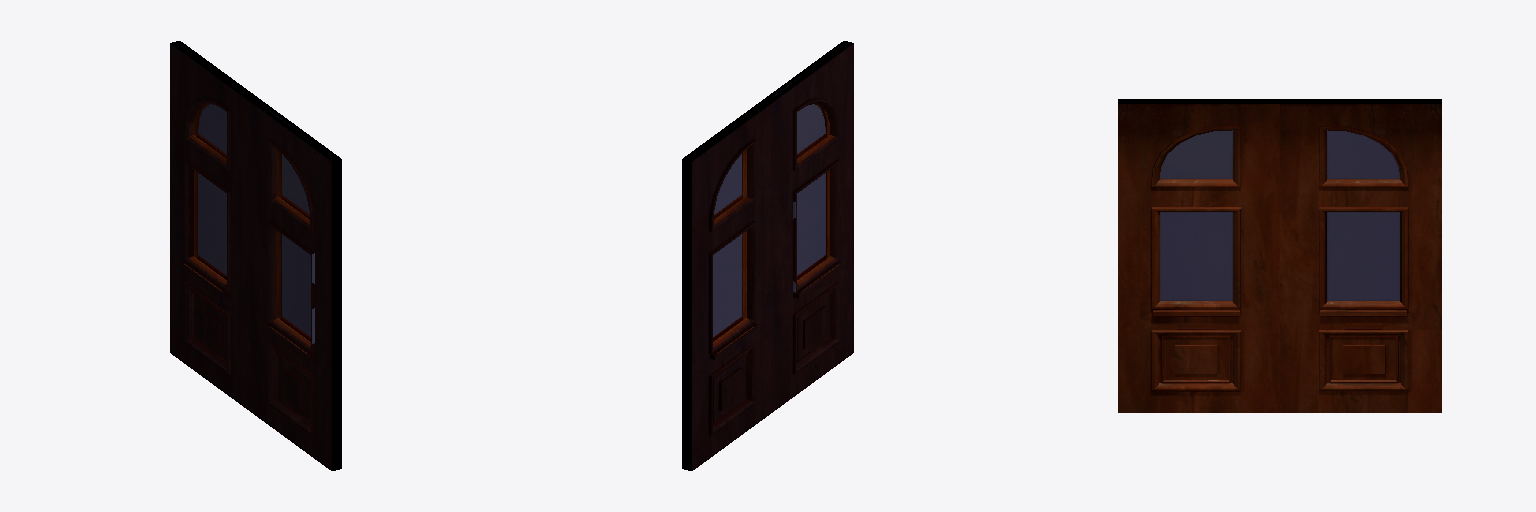
3 renders of one model, left to right at view 1: azimuth 30°, elevation 25°; view 2: azimuth 150°, elevation 25°; view 3: azimuth 270°, elevation 25°, orthographic.
Parts seen in each view (by area): view 1: frontdoor1 ExportGeo; view 2: frontdoor1 ExportGeo; view 3: frontdoor1 ExportGeo.
Part boxes in pixels (left/top/right/bottom): frontdoor1 ExportGeo: left=170, top=41, right=341, bottom=470; frontdoor1 ExportGeo: left=682, top=41, right=853, bottom=470; frontdoor1 ExportGeo: left=1118, top=99, right=1441, bottom=412.
Bounding box in the file's own units: 0.1517 × 2.16 × 2.04.
1 materials, 1 textured.